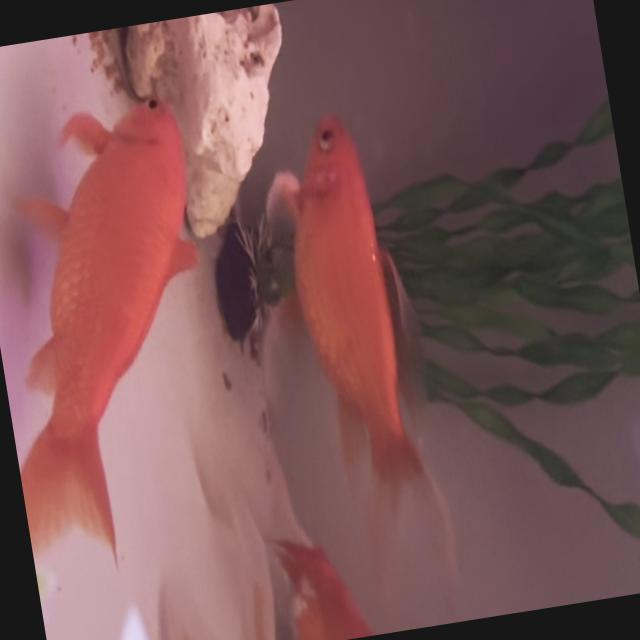fish: (0, 90, 251, 578), (254, 106, 452, 568), (261, 507, 388, 640)
